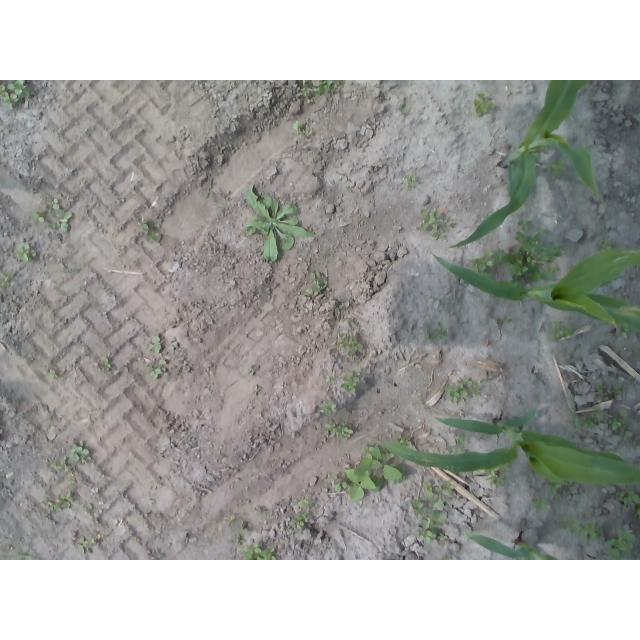Maize: (447, 81, 602, 252), (377, 407, 640, 488), (431, 248, 640, 335), (464, 530, 560, 560)
Weeds: (243, 184, 314, 263), (494, 220, 567, 290), (345, 445, 407, 503), (410, 482, 455, 543), (50, 443, 90, 483), (29, 199, 71, 234), (556, 514, 605, 542), (485, 453, 519, 487), (419, 208, 453, 240), (604, 528, 636, 561), (567, 405, 605, 432), (301, 81, 345, 104), (444, 378, 481, 403), (607, 408, 633, 441), (0, 79, 28, 108), (335, 334, 365, 359), (473, 92, 499, 117), (240, 542, 276, 560), (42, 492, 74, 512), (590, 380, 622, 400), (305, 271, 328, 297), (139, 217, 162, 243), (422, 322, 448, 343), (341, 367, 361, 393), (549, 322, 575, 342), (327, 423, 354, 442), (546, 479, 576, 496), (547, 156, 567, 180), (232, 518, 249, 546), (472, 251, 493, 273), (613, 488, 640, 505), (146, 360, 168, 380), (15, 242, 36, 262), (449, 435, 467, 456), (329, 472, 347, 493), (289, 512, 309, 530), (292, 121, 312, 138), (533, 495, 551, 513), (319, 400, 338, 416), (147, 337, 163, 354), (75, 536, 89, 555), (1, 273, 16, 290), (298, 494, 315, 509), (598, 236, 613, 252), (396, 435, 413, 449), (403, 173, 417, 187), (205, 182, 215, 198), (101, 357, 111, 372), (44, 369, 57, 380), (13, 553, 33, 560), (148, 553, 164, 560), (502, 315, 514, 324), (480, 375, 492, 383), (631, 345, 640, 355), (400, 106, 409, 115), (327, 541, 334, 548), (636, 507, 640, 519), (442, 556, 451, 561), (87, 504, 93, 511), (255, 385, 261, 392), (636, 112, 640, 122), (345, 187, 351, 192), (329, 377, 334, 383)
